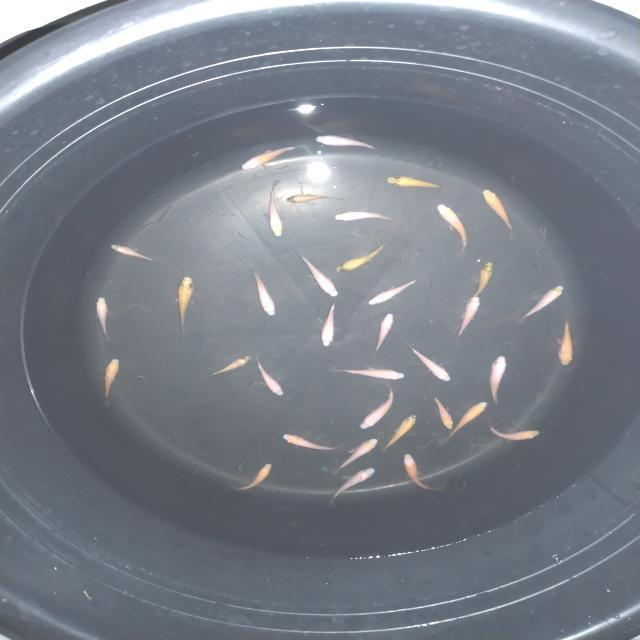nila: (286, 246, 342, 300), (324, 463, 382, 507), (513, 282, 568, 325), (431, 200, 473, 256), (236, 140, 300, 176), (362, 272, 425, 308), (324, 437, 382, 475), (334, 238, 394, 274), (354, 383, 399, 431), (403, 343, 453, 386), (258, 180, 294, 238), (442, 400, 490, 443), (478, 187, 519, 237), (244, 264, 278, 320), (402, 451, 442, 498), (310, 133, 386, 157), (248, 354, 289, 398), (376, 412, 420, 452), (316, 298, 348, 351), (552, 315, 583, 368), (172, 272, 197, 337), (328, 364, 408, 384), (228, 462, 278, 494), (449, 296, 482, 344), (460, 258, 494, 302), (104, 241, 161, 267), (278, 431, 348, 452), (484, 352, 510, 408), (206, 352, 256, 380), (95, 354, 121, 406), (333, 208, 400, 228), (380, 172, 445, 192), (484, 420, 542, 442), (90, 292, 116, 340), (368, 310, 396, 354), (428, 390, 456, 432), (285, 188, 343, 206)
